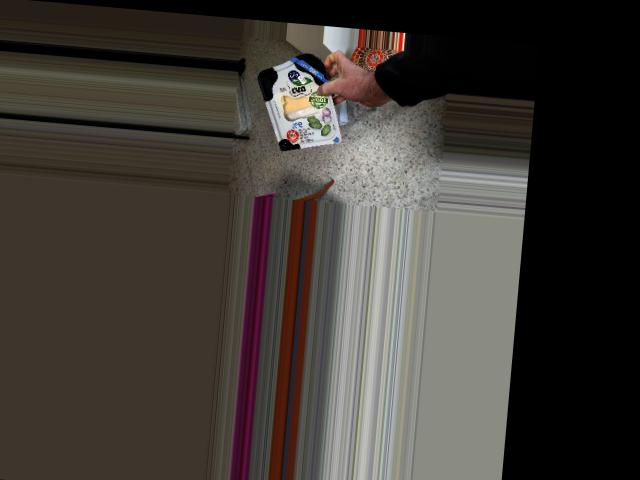cheese: (258, 46, 334, 154)
